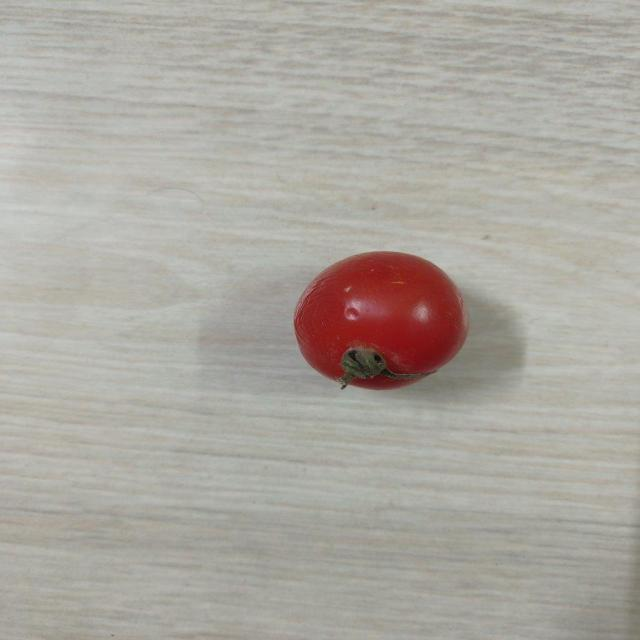Tomato: (287, 246, 474, 396)
